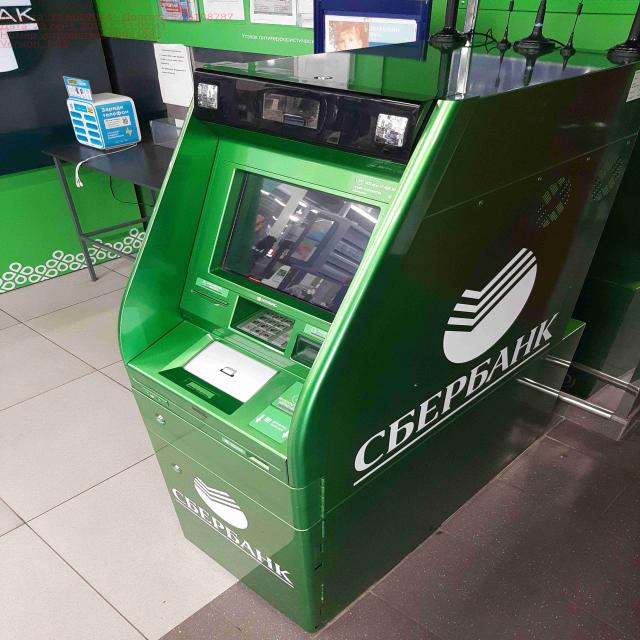bank: (115, 48, 640, 634)
